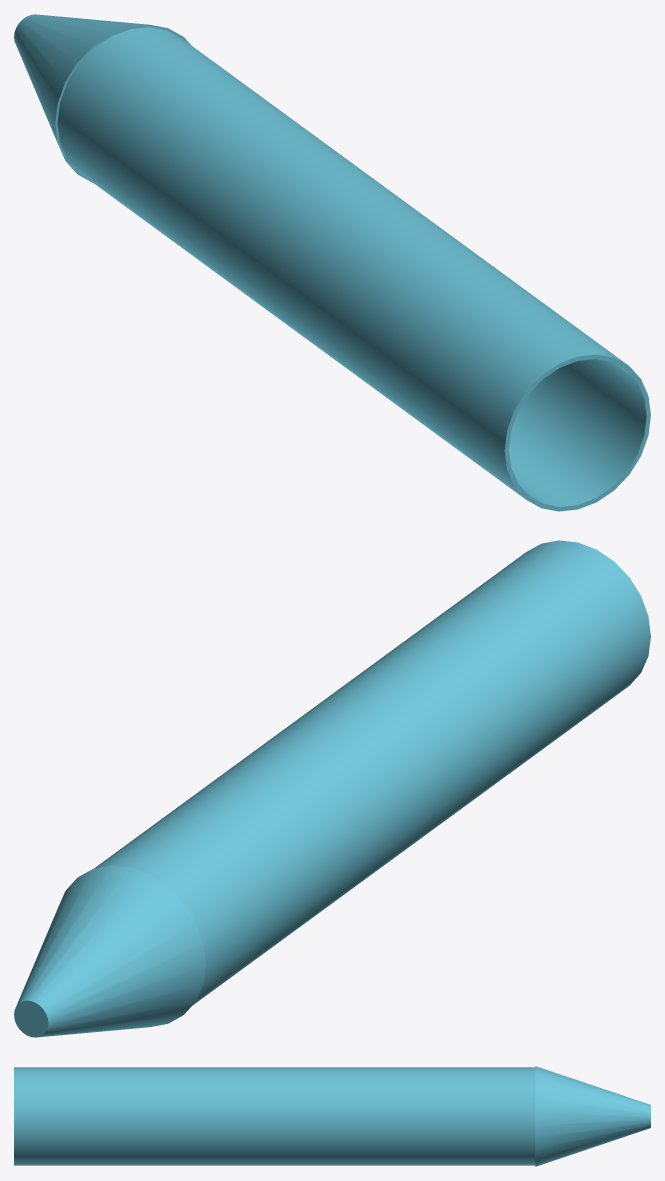
Rendered from polypropene-centrifugal-base-2.obj.
3 views of the same model, one above another, from view 1: azimuth 30°, elevation 25°; view 2: azimuth 150°, elevation 25°; view 3: azimuth 270°, elevation 25° (orthographic). The views are drawn at different scales.
Visible parts, largest first — view 1: Body1; view 2: Body1; view 3: Body1.
Part boxes in pixels (left/top/right/bottom): Body1: left=14, top=14, right=650, bottom=511; Body1: left=14, top=540, right=650, bottom=1037; Body1: left=14, top=1066, right=650, bottom=1166.
Bounding box in the file's own units: 1.75 × 1.75 × 11.
